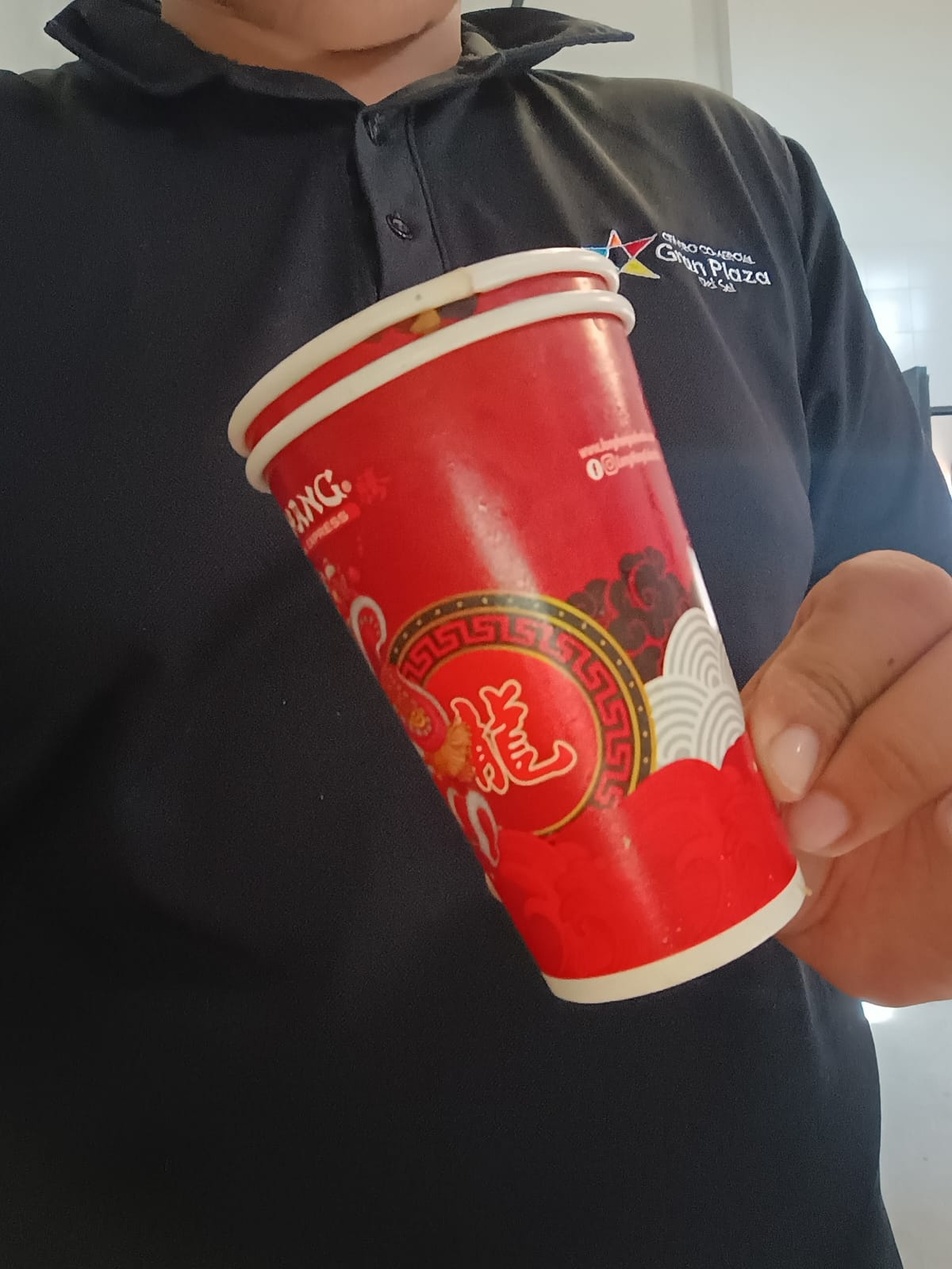Carton: (232, 246, 804, 1004)
